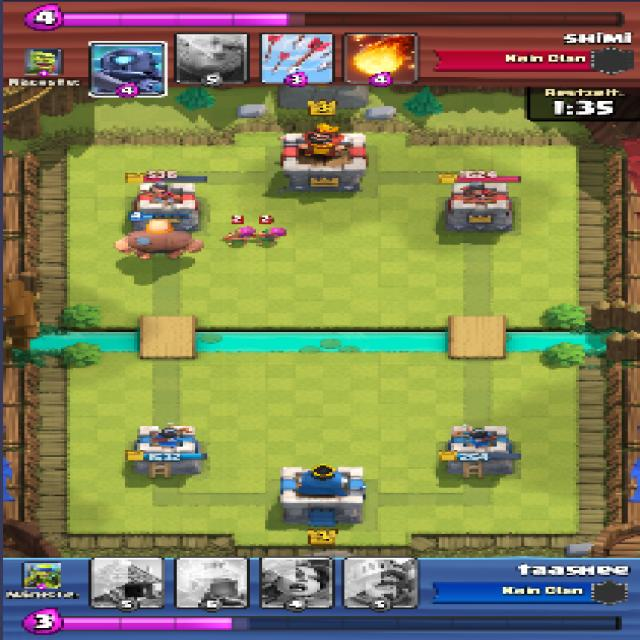Enemy-Archer: (250, 224, 289, 244), (225, 224, 256, 243)
Player-Giant: (115, 218, 204, 258)
